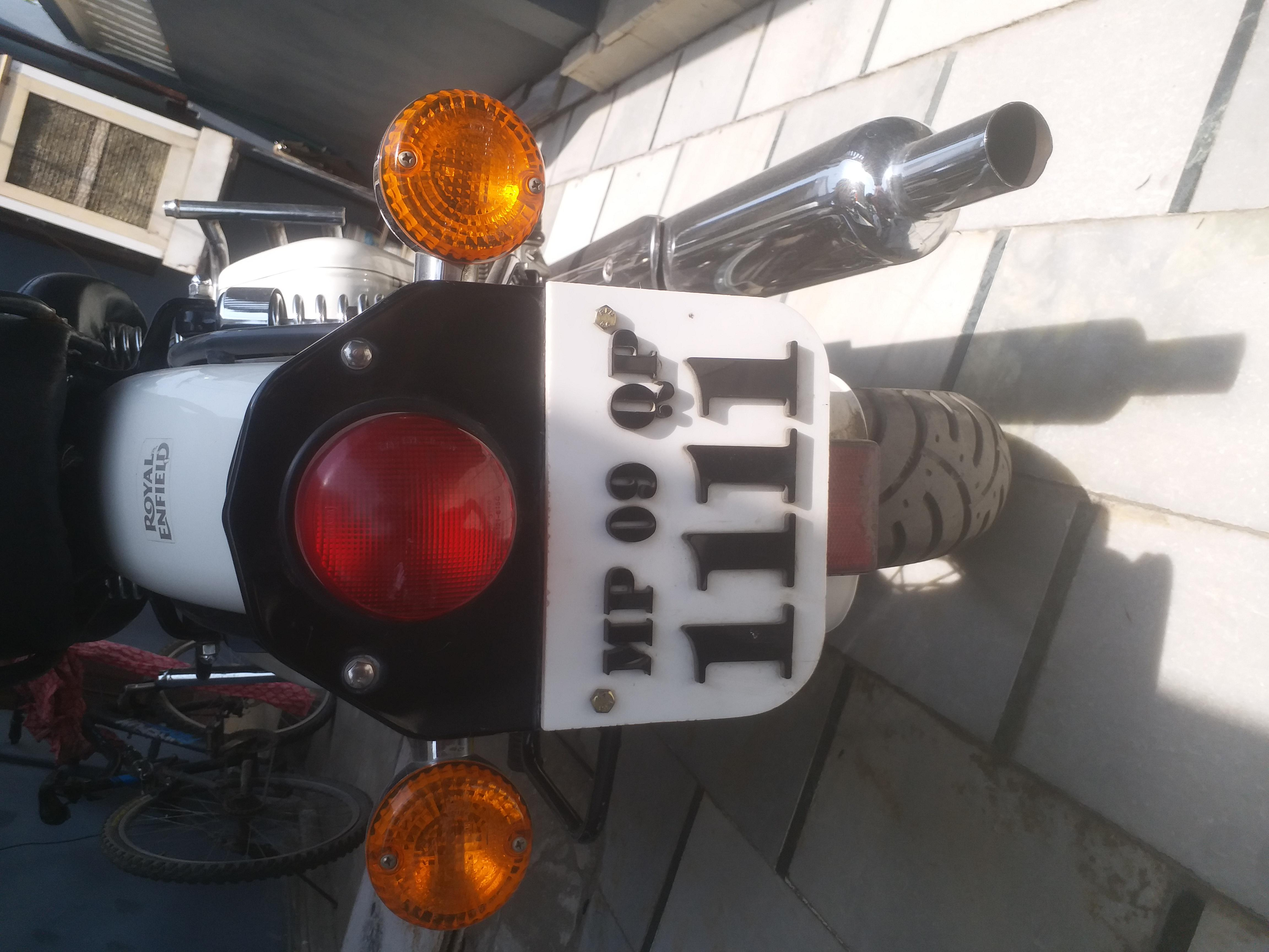number_platerotation: (293, 404, 896, 625)
